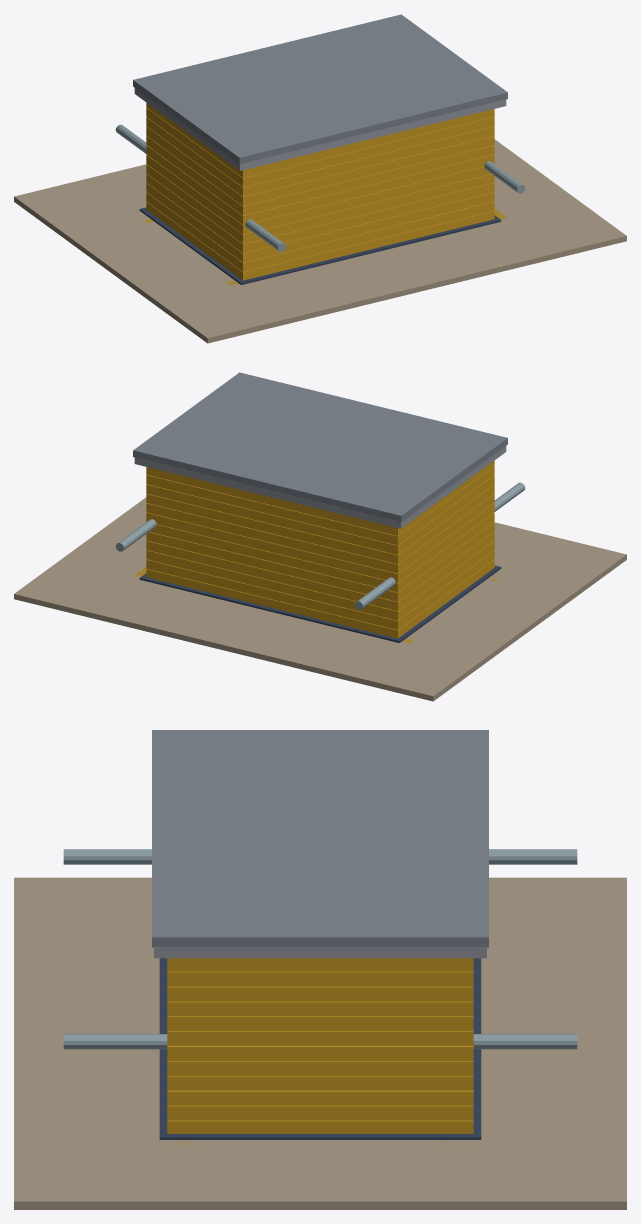
File: stage_05_bands.glb
The picture shows the model from 3 angles, top to bottom: view 1: azimuth 30°, elevation 25°; view 2: azimuth 150°, elevation 25°; view 3: azimuth 270°, elevation 25°; orthographic projection. The views are drawn at different scales.
Parts seen in each view (by area): view 1: world; view 2: world; view 3: world.
Boxes of the visible parts, bbox=[...] form: world: bbox=[14, 14, 626, 343]; world: bbox=[14, 372, 626, 701]; world: bbox=[14, 730, 626, 1209].
Size of the model in its own units: 10 by 3.76 by 8.
